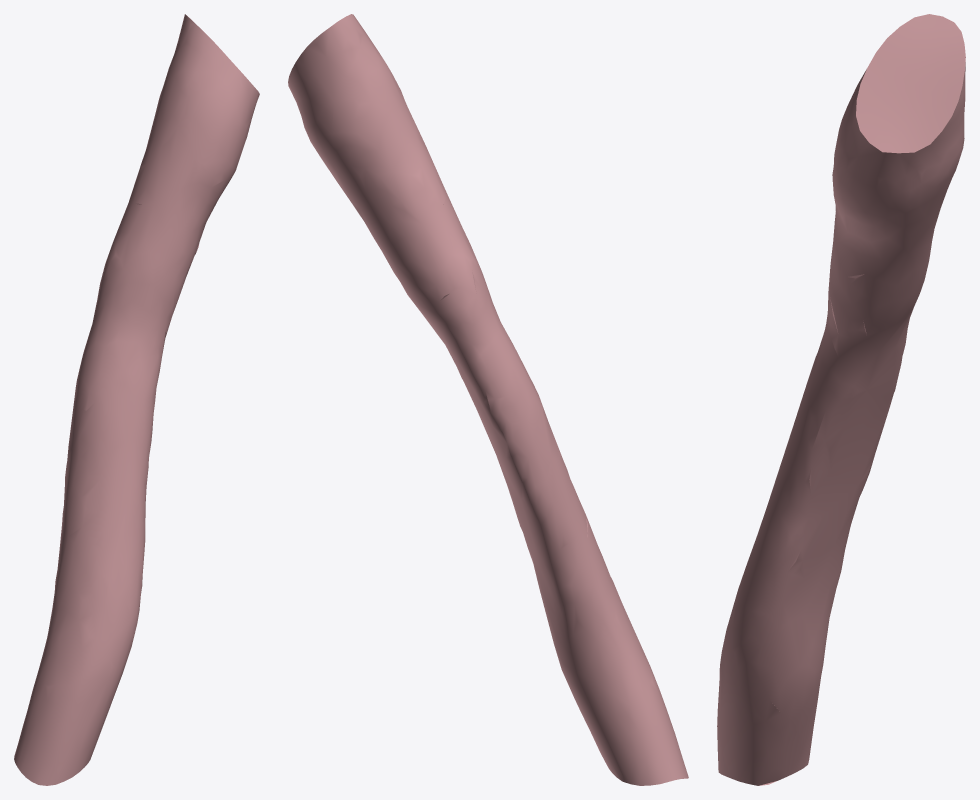
File: fma297846_mm1975m.glb
The picture shows the model from 3 angles, left to right: view 1: azimuth 30°, elevation 25°; view 2: azimuth 150°, elevation 25°; view 3: azimuth 270°, elevation 25°; orthographic projection. The views are drawn at different scales.
Parts seen in each view (by area): view 1: FMA297846_MM1975M; view 2: FMA297846_MM1975M; view 3: FMA297846_MM1975M.
Part boxes in pixels (x1,y1,x2,y2): FMA297846_MM1975M: (14, 14, 259, 785); FMA297846_MM1975M: (288, 14, 688, 785); FMA297846_MM1975M: (717, 14, 965, 785).
Bounding box in the file's own units: 0.0217 × 0.0482 × 0.0122.
